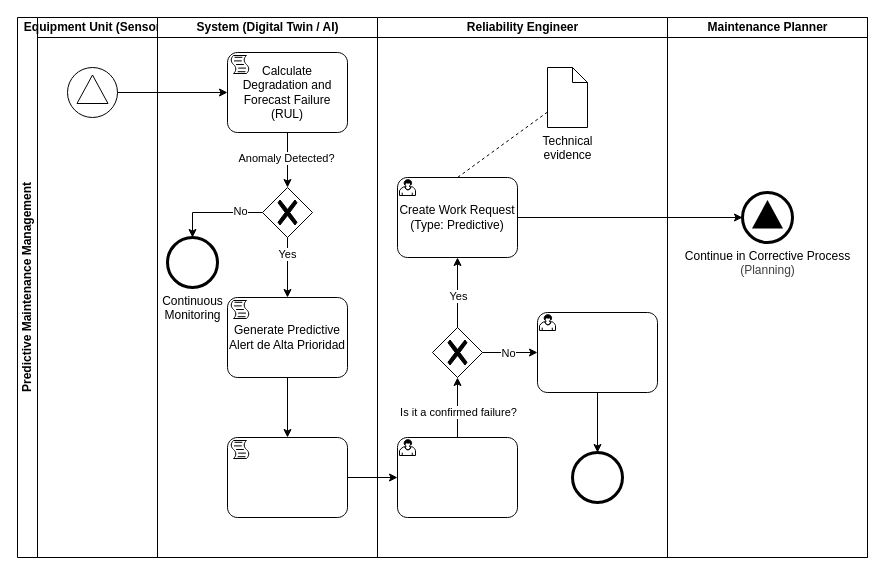
Image size: 885x575. Some labels were removed from this diagram. Each missing label, with the centre of its shape:
"End of Process" goes at [597,477].
"Label Alert as Noise / Adjust Model" goes at [597,352].
"Notificar al Reliability Engineer" goes at [287,477].
"Telemetry Capture" goes at [92,92].
"Validate Diagnosis and Analyze Trends" goes at [457,477].
